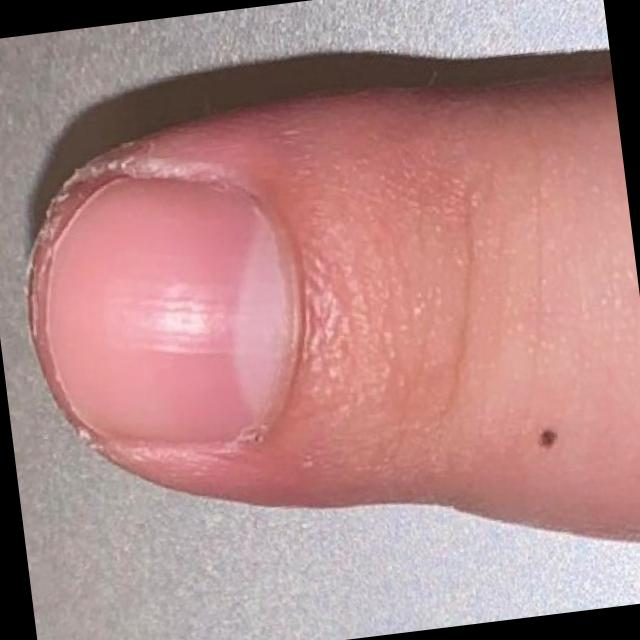Nail: (48, 176, 292, 442)
